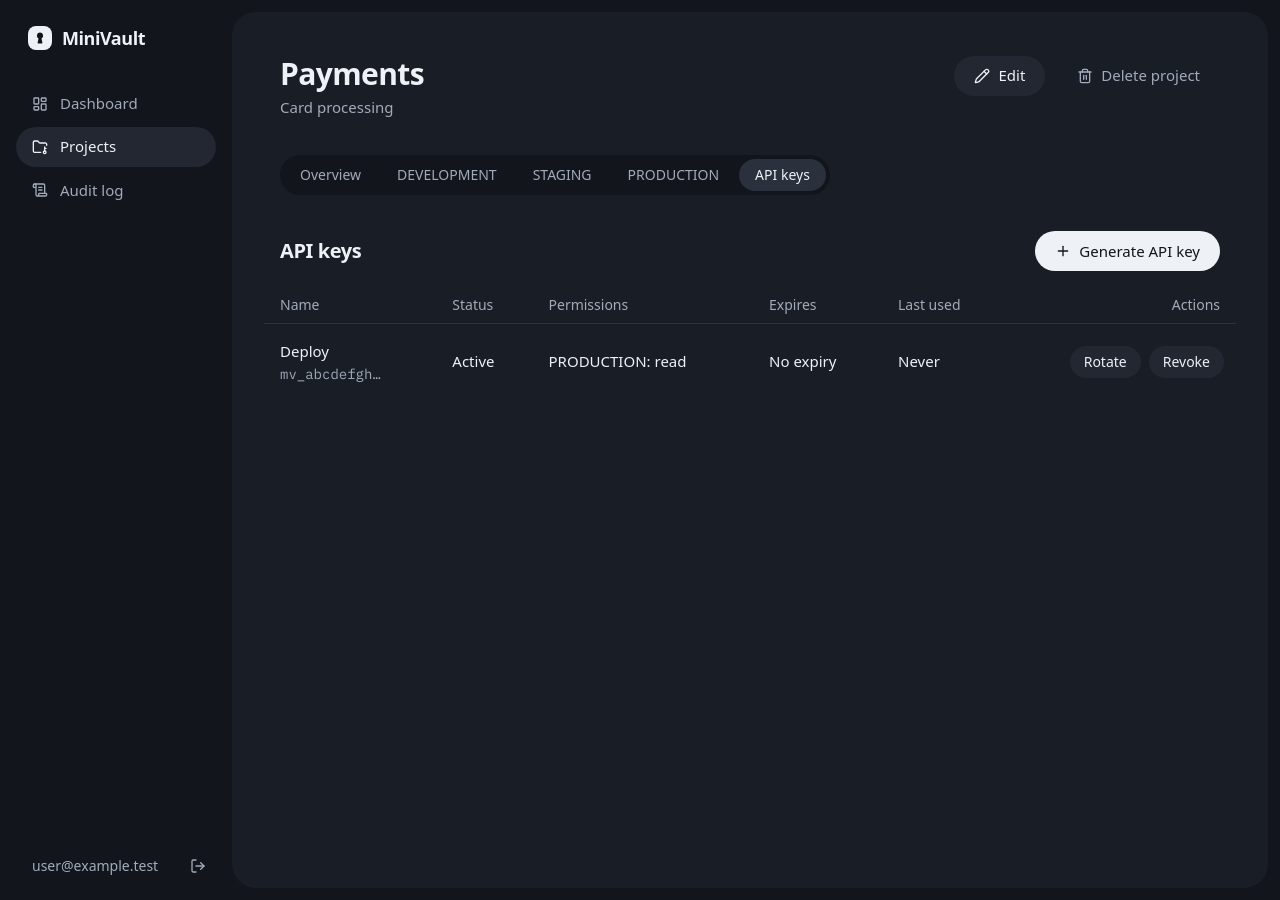
Test: revokes after confirmation
The width and height of the screenshot is (1280, 900).
Click the button with aria-label "Revoke Deploy": (1186, 362) [1149,346,1224,378]
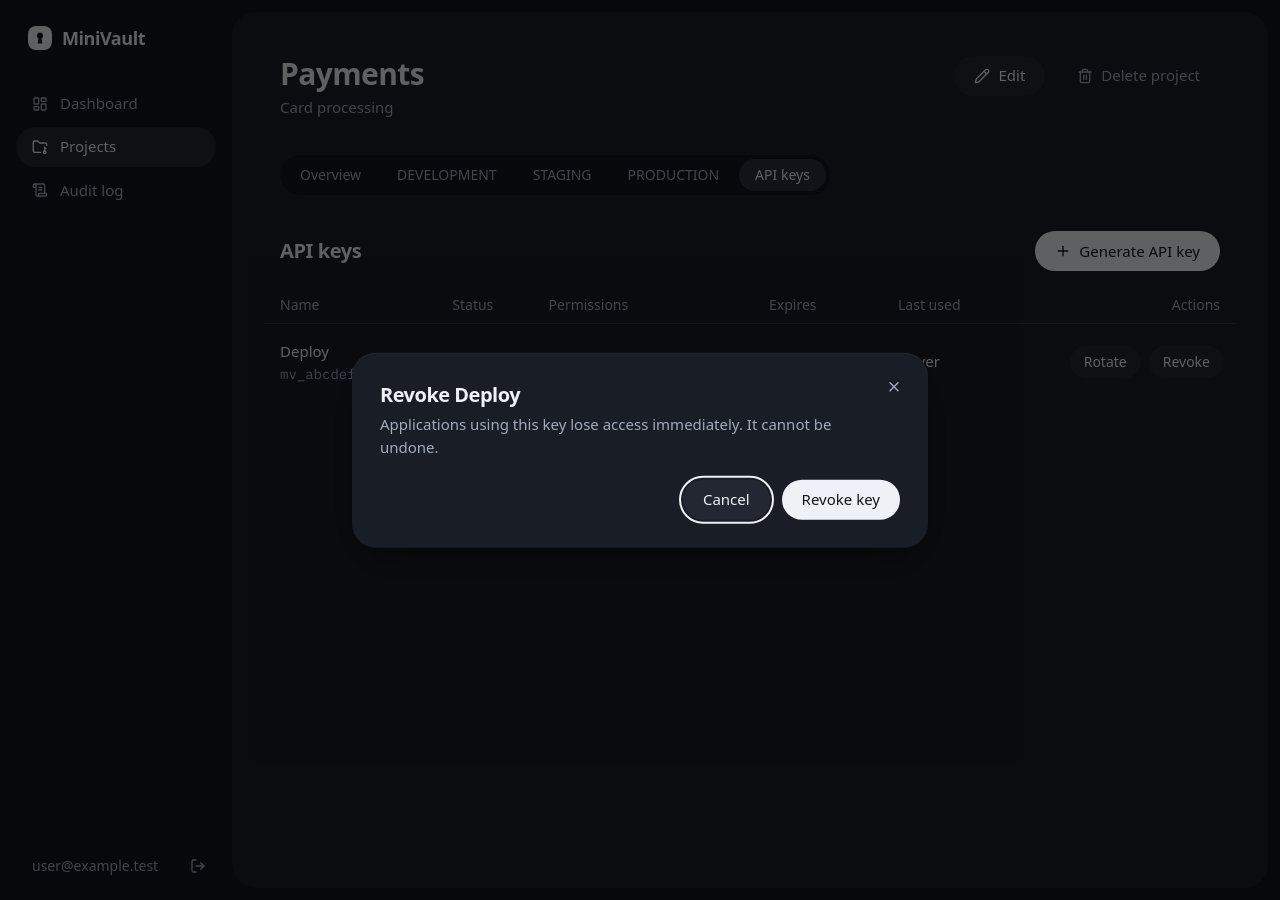
Click the button "Revoke key": (841, 499) [782,479,900,519]
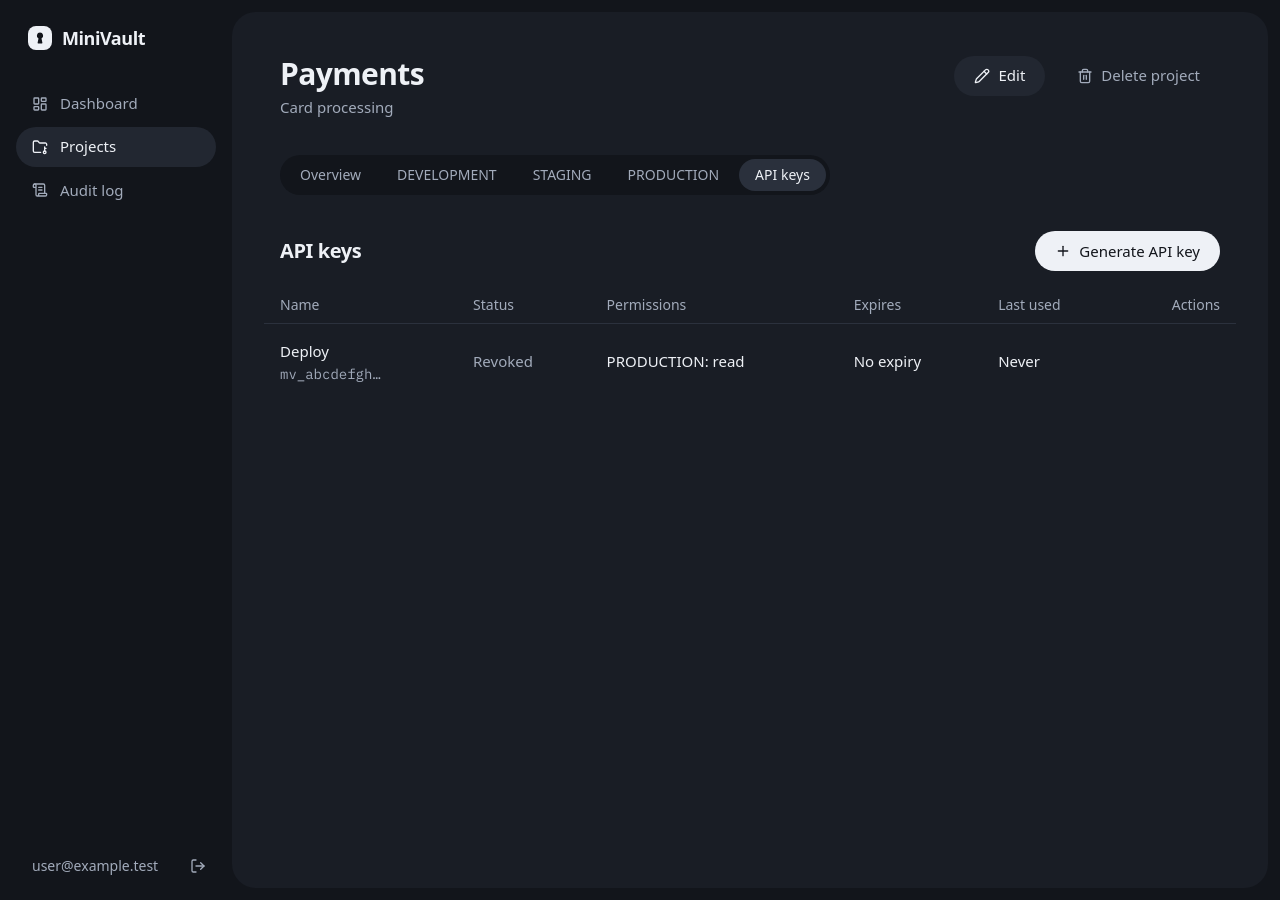
Expected: the text "Revoked" is shown, [457,324,590,400]
